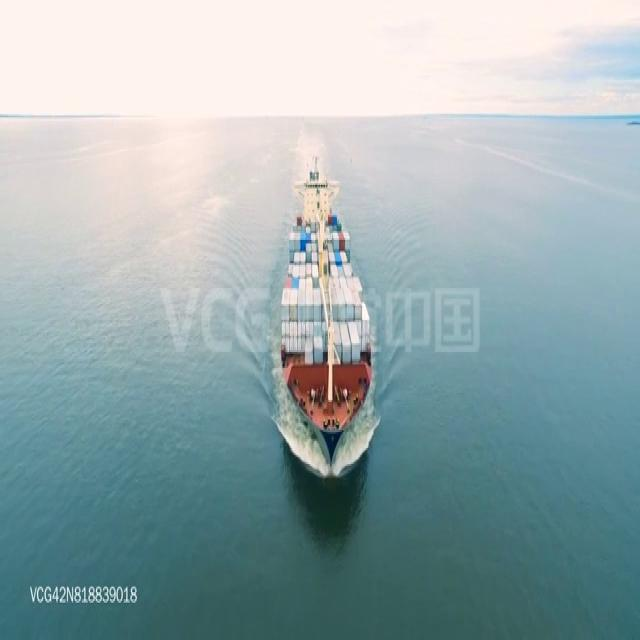cargoship: (276, 152, 376, 455)
